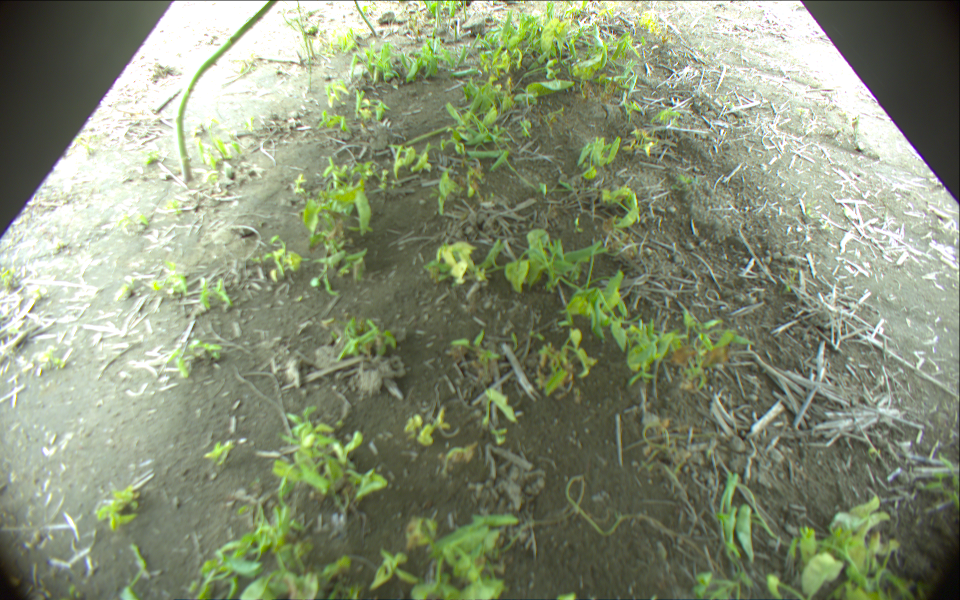aspa: (176, 1, 284, 182), (296, 1, 311, 59), (354, 1, 376, 35), (297, 17, 316, 56)
